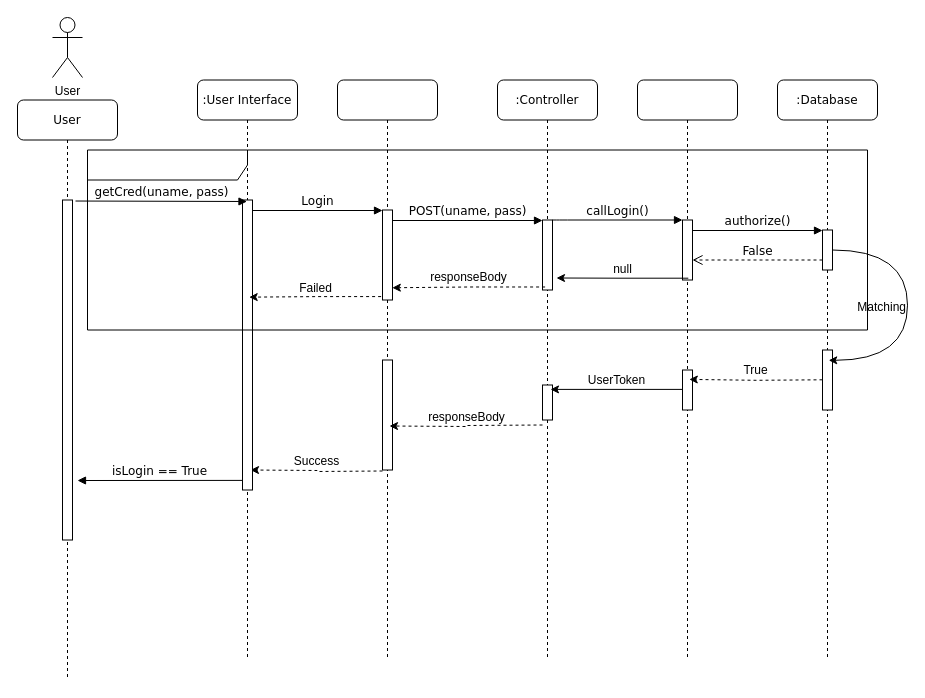
The diagram is 925 pixels wide and 698 high, and some of its shapes have lost their labels. The box of each missing label's shape, as (x1, y1, x2, y2) in pixels:
:API Gateway: (336, 79, 438, 660)
:API Service: (636, 79, 738, 660)
isLogin == False: (86, 149, 868, 330)
